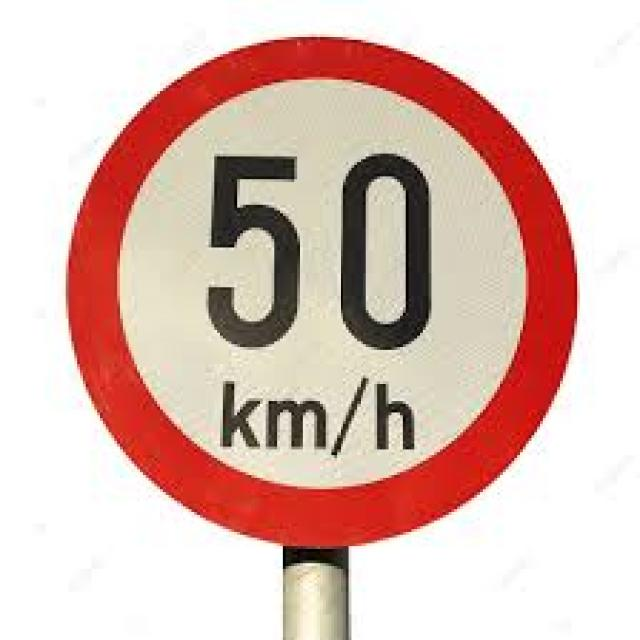Speed limit 50: (61, 29, 584, 553)
